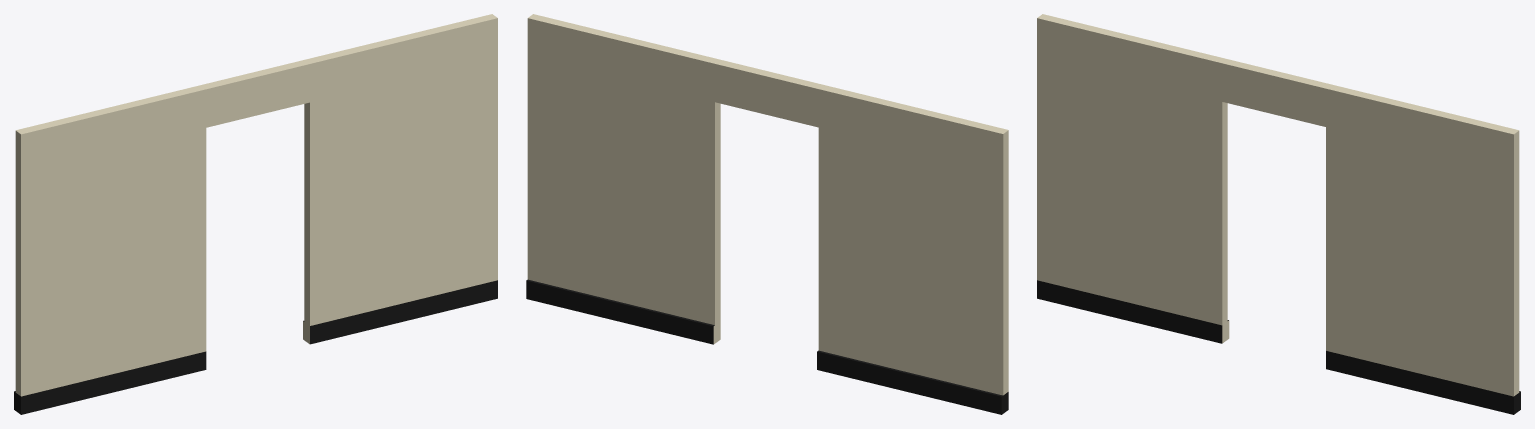
Rendered from Wall 3.FBX.
3 renders of one model, left to right at view 1: azimuth 30°, elevation 25°; view 2: azimuth 150°, elevation 25°; view 3: azimuth 330°, elevation 25°, orthographic.
Visible parts, largest first — view 1: Wall 3; view 2: Wall 3; view 3: Wall 3.
Part boxes in pixels (bbox=[...]): Wall 3: bbox=[14, 14, 497, 414]; Wall 3: bbox=[526, 14, 1008, 414]; Wall 3: bbox=[1037, 14, 1520, 414].
Bounding box in the file's own units: 434 × 244 × 11.22.
Materials: 1 (1 with a texture image).
